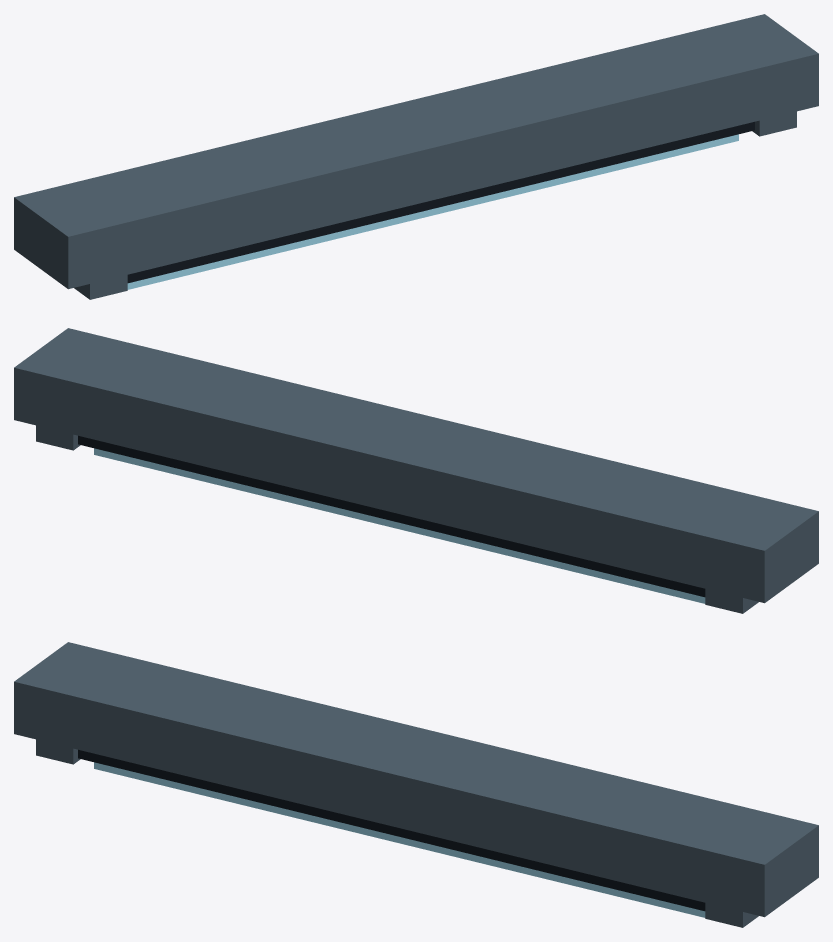
3 views of the same model, one above another, from view 1: azimuth 30°, elevation 25°; view 2: azimuth 150°, elevation 25°; view 3: azimuth 330°, elevation 25° (orthographic).
Visible parts, largest first — view 1: P16-01_Steel, P16-01_DarkPanel, P16-01_EmissionWhite; view 2: P16-01_Steel, P16-01_DarkPanel, P16-01_EmissionWhite; view 3: P16-01_Steel, P16-01_DarkPanel, P16-01_EmissionWhite.
Part boxes in pixels (left/top/right/bottom): P16-01_Steel: left=14, top=14, right=818, bottom=299; P16-01_DarkPanel: left=127, top=121, right=754, bottom=283; P16-01_EmissionWhite: left=127, top=134, right=738, bottom=289; P16-01_Steel: left=14, top=328, right=818, bottom=613; P16-01_DarkPanel: left=78, top=435, right=705, bottom=597; P16-01_EmissionWhite: left=94, top=448, right=705, bottom=603; P16-01_Steel: left=14, top=642, right=818, bottom=927; P16-01_DarkPanel: left=78, top=749, right=705, bottom=911; P16-01_EmissionWhite: left=94, top=762, right=705, bottom=917.
Size of the model in its own units: 1.2 by 0.12 by 0.15.
